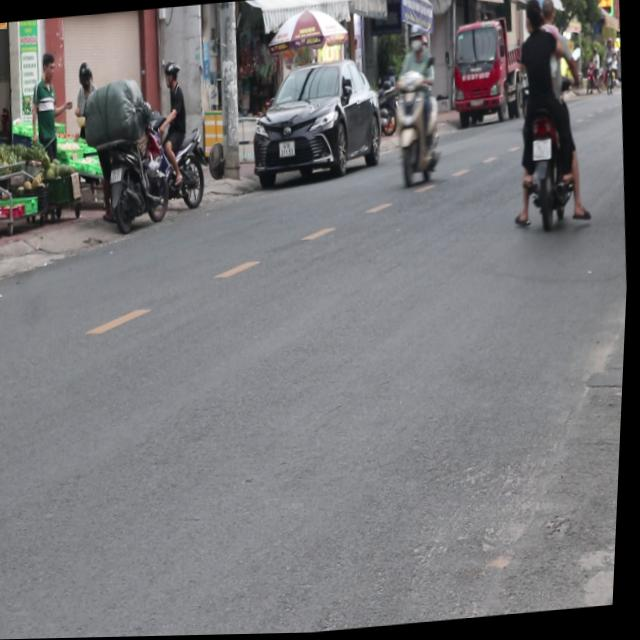helmet: (406, 22, 425, 53), (534, 0, 555, 28), (162, 58, 180, 88)
licenseplate: (499, 0, 593, 235), (384, 20, 448, 190)
motorcyclist: (520, 0, 542, 33)
nohelmet: (532, 140, 551, 161)
